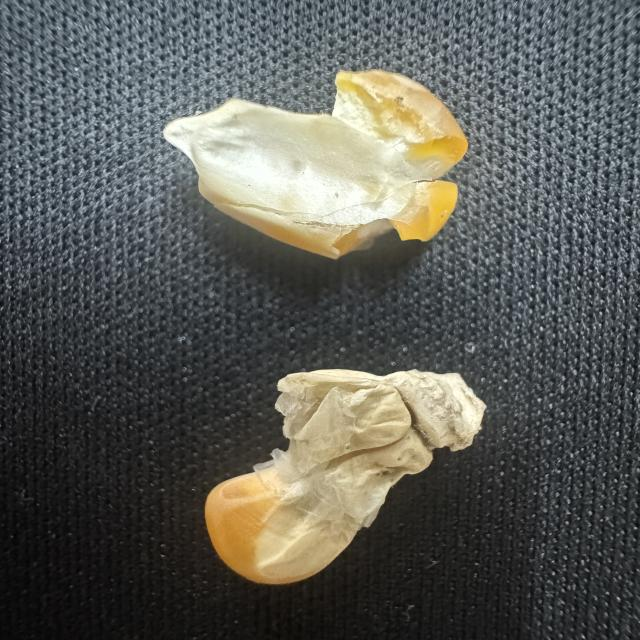Bad-Seed: (194, 365, 487, 588), (157, 65, 476, 266)
